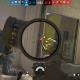Character: (0, 28, 23, 80)
Friend_label: (0, 21, 4, 25)
